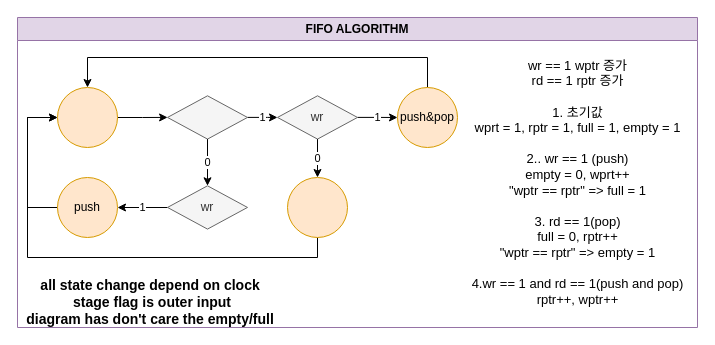
Image size: 715x345. Some labels were removed from this diagram. Here are the shapes that lost their labels. From the top down, the centre of each, then its label:
At [87,117]: "ready".
At [207,117]: "rd".
At [317,207]: "pop".
